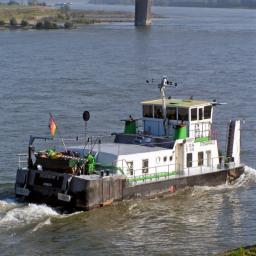tugboat: (13, 76, 249, 219)
